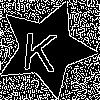K: (21, 23, 59, 72)
